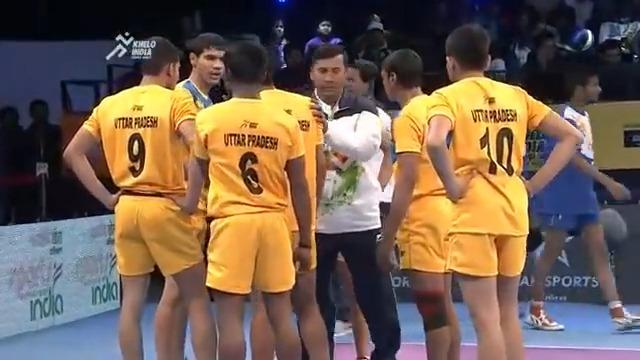Player: (60, 20, 592, 358), (423, 22, 584, 358), (61, 35, 209, 358), (177, 39, 314, 358), (520, 58, 638, 333), (305, 42, 400, 358), (375, 47, 463, 358)
referee: (20, 98, 63, 221)
